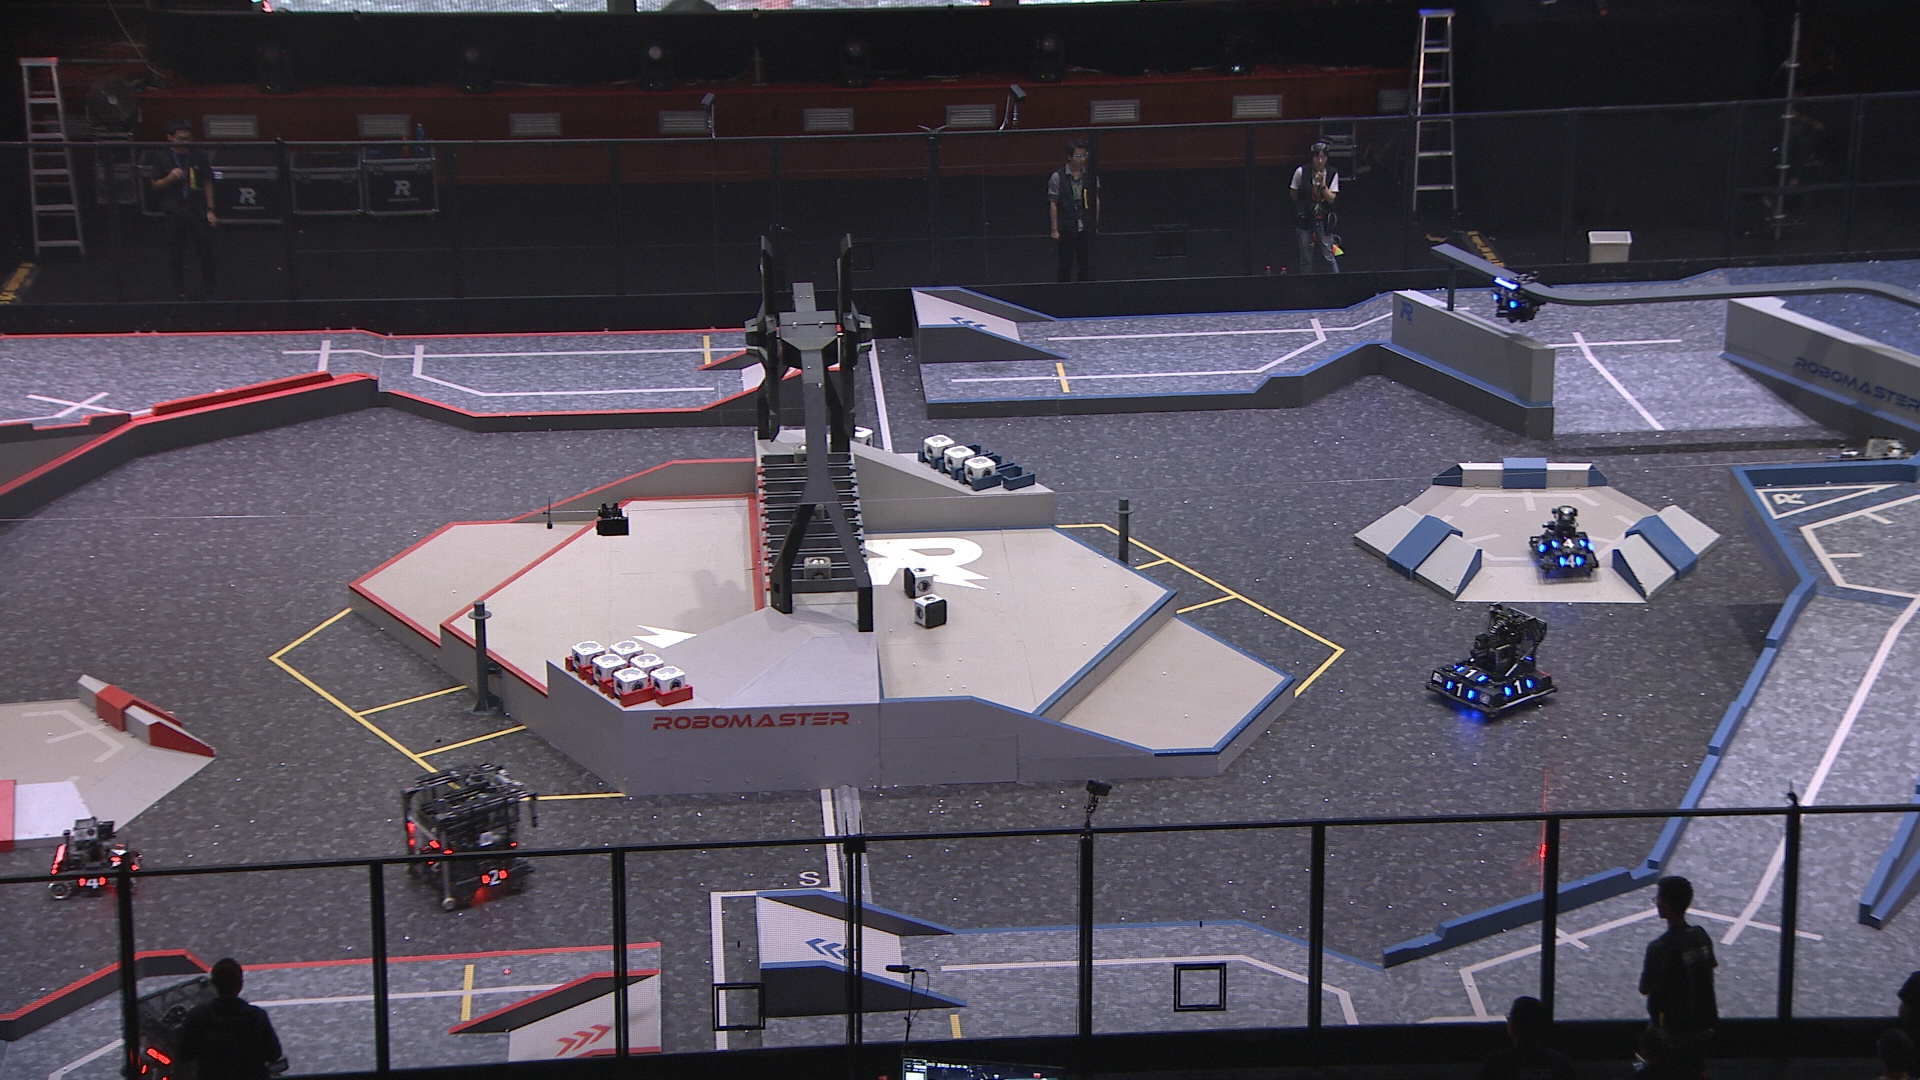armor: (477, 865, 509, 889), (1444, 679, 1476, 700), (1457, 665, 1489, 684), (1505, 676, 1538, 695), (1548, 537, 1589, 551), (1490, 291, 1522, 310), (76, 873, 107, 891), (107, 841, 129, 864), (1556, 553, 1585, 568), (425, 853, 442, 873), (1532, 537, 1549, 555)
car: (401, 757, 545, 909), (1425, 603, 1560, 725), (119, 971, 268, 1080), (1807, 436, 1917, 547), (44, 812, 152, 906), (1524, 502, 1600, 578)
watcher: (1487, 264, 1547, 327)
